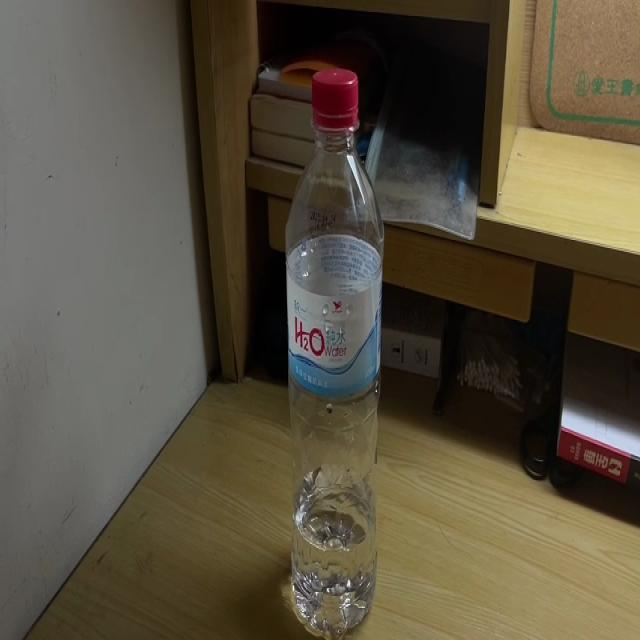Water: (283, 70, 383, 640)
